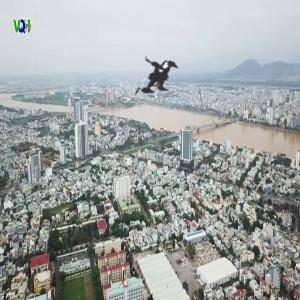drone: (90, 1, 235, 146)
